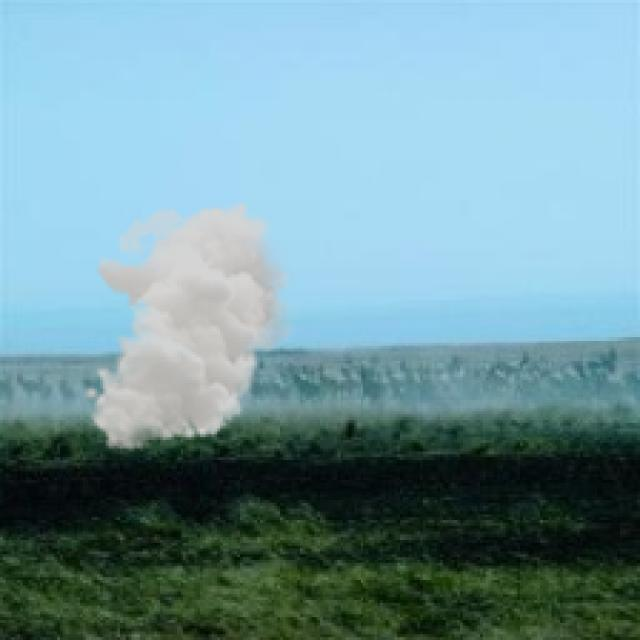smoke: (83, 200, 300, 451)
